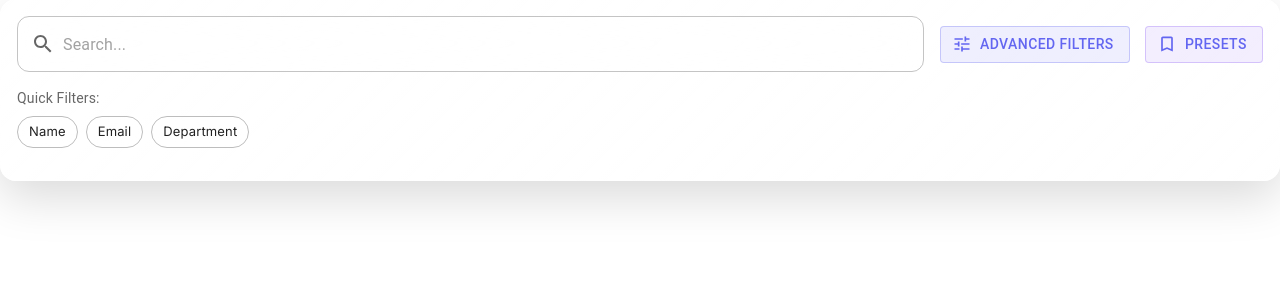
Scenario: SmartFilter › displays preset management menu
The width and height of the screenshot is (1280, 293).
Click the button "Presets".
click(1204, 44)  # box top-left (1145, 26), bottom-right (1263, 62)
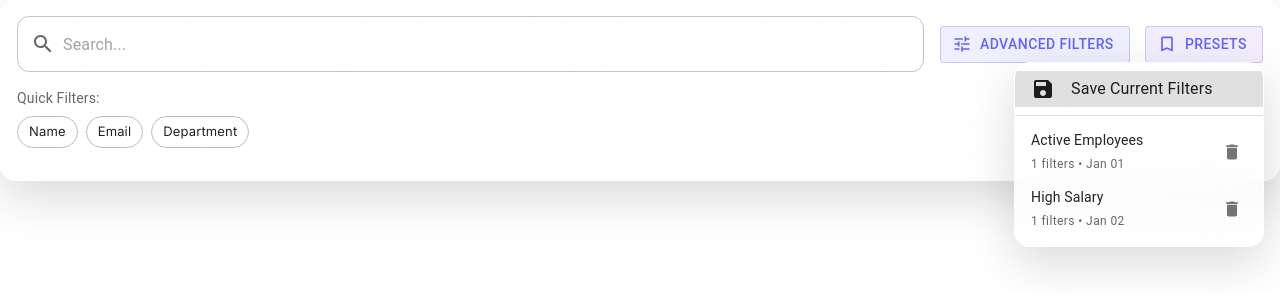
Check: the menu item "Save Current Filters" is shown, box top-left (1015, 71), bottom-right (1263, 107)
Check: the text "Active Employees" is shown, box top-left (1031, 132), bottom-right (1143, 148)
Check: the text "High Salary" is shown, box top-left (1031, 189), bottom-right (1104, 205)
